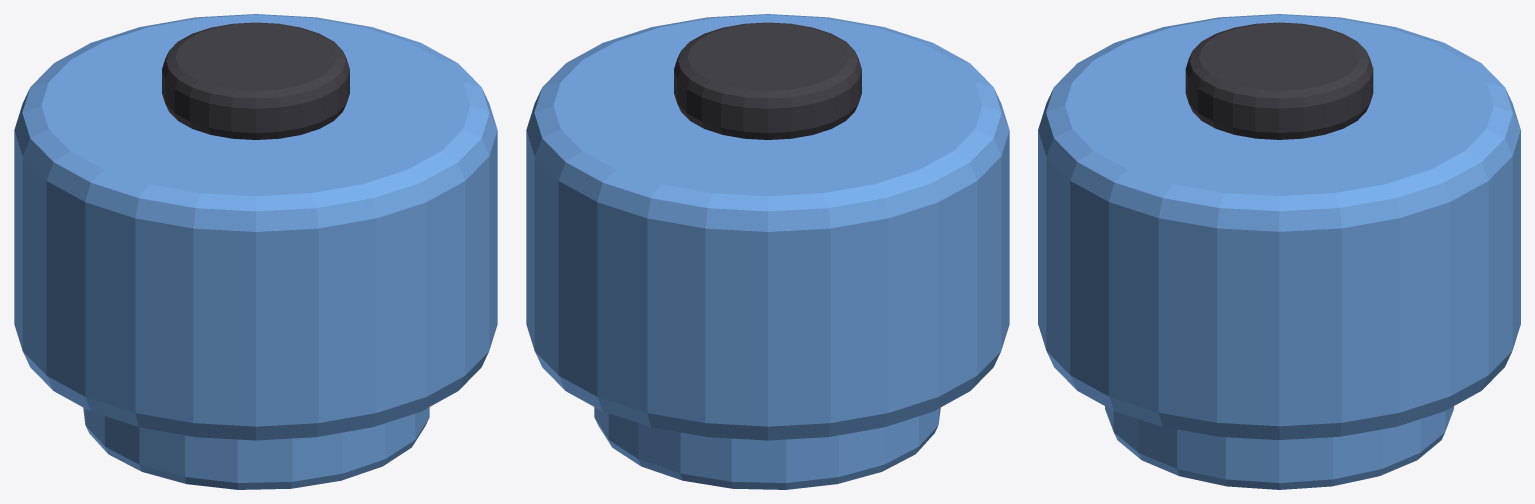
File: part_sensor.fbx
3 views of the same model, side by side, from view 1: azimuth 30°, elevation 25°; view 2: azimuth 150°, elevation 25°; view 3: azimuth 270°, elevation 25° (orthographic).
Parts seen in each view (by area): view 1: part_sensor; view 2: part_sensor; view 3: part_sensor.
Part boxes in pixels (box(x1,y1,x2,y2)): part_sensor: box(14, 14, 497, 489); part_sensor: box(526, 14, 1009, 489); part_sensor: box(1038, 14, 1520, 489).
Size of the model in its own units: 0.036 by 0.03 by 0.036.
